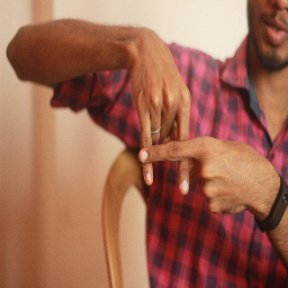H: (111, 77, 220, 215)
